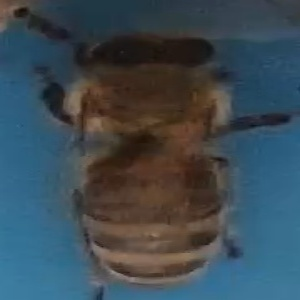bee: (27, 21, 292, 292)
